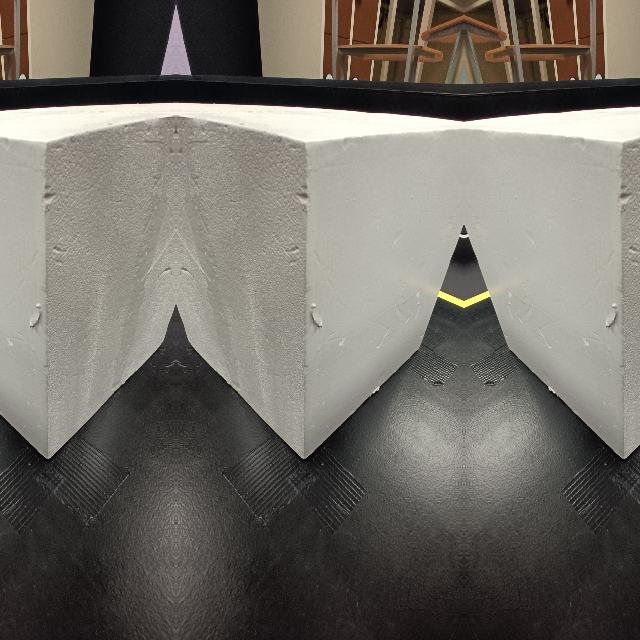obstacle: (174, 100, 463, 462), (463, 100, 640, 461), (0, 100, 175, 461)
